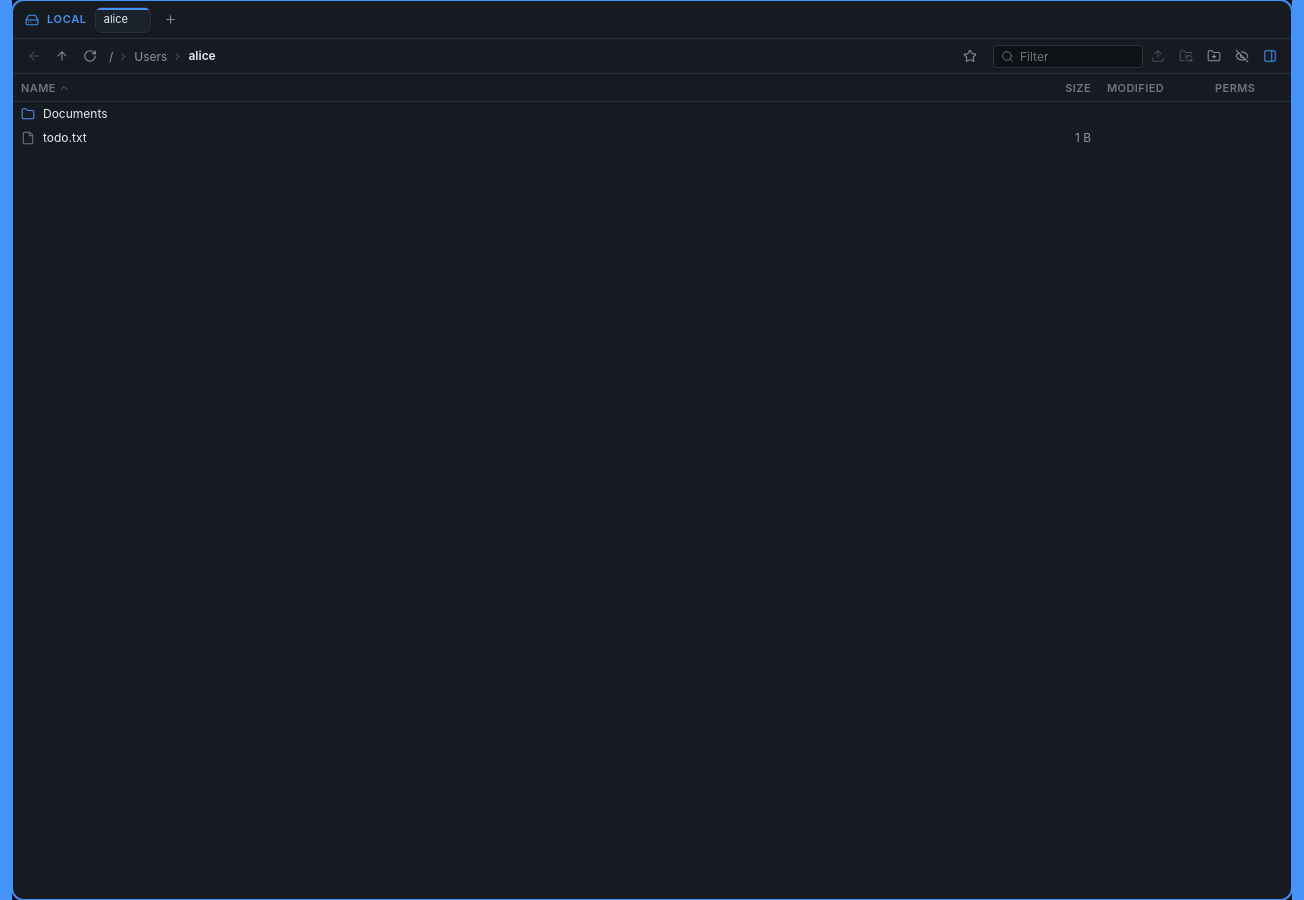
Test: Pane on macOS › renames with Enter instead of opening
This screenshot has width=1304, height=900.
Expected: the text "todo.txt" is shown, [43,129,87,147]
Click the text "Documents" at (75, 114), box [43,105,108,123]
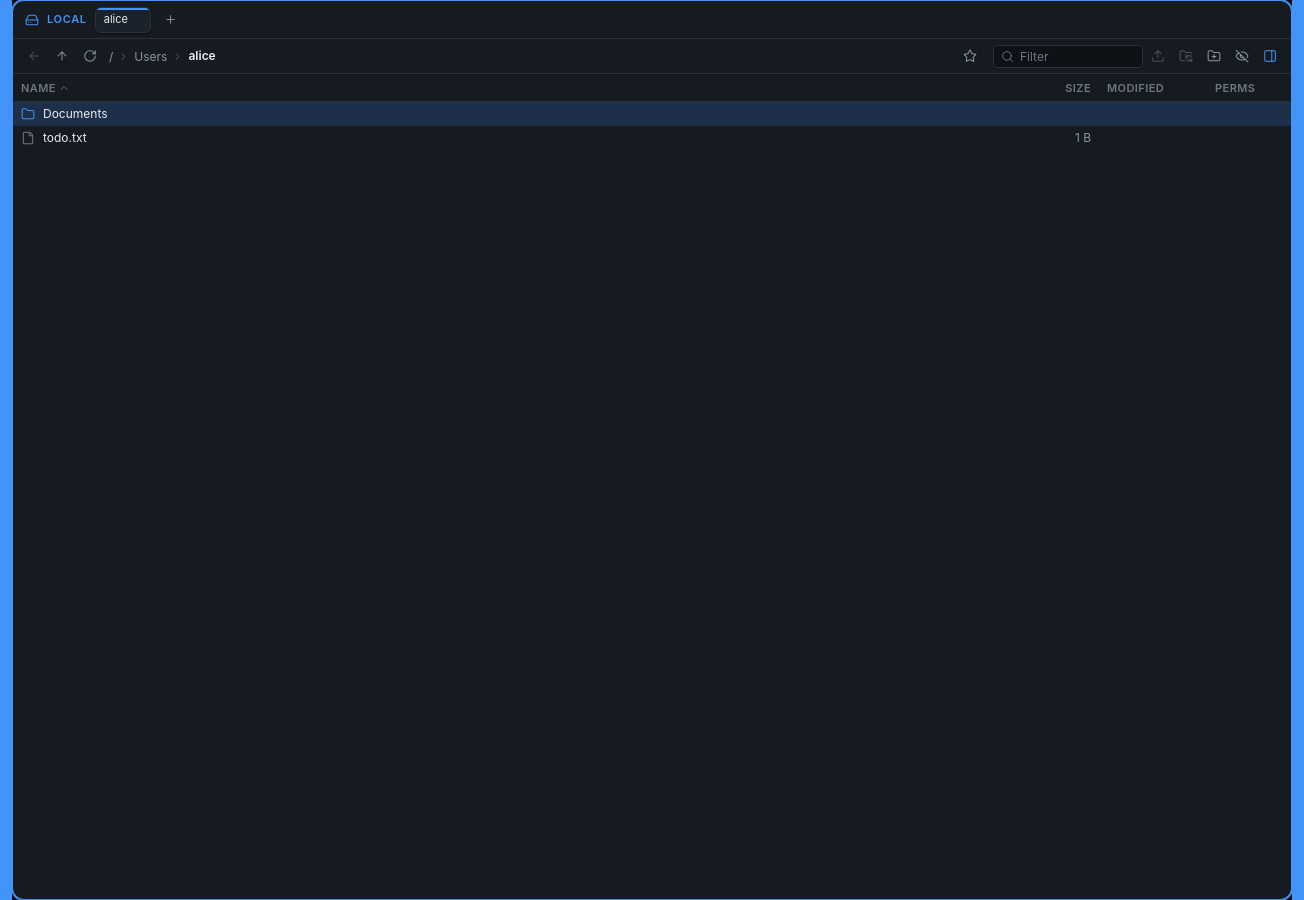
Press Enter in the table, box [13,74,1291,145]
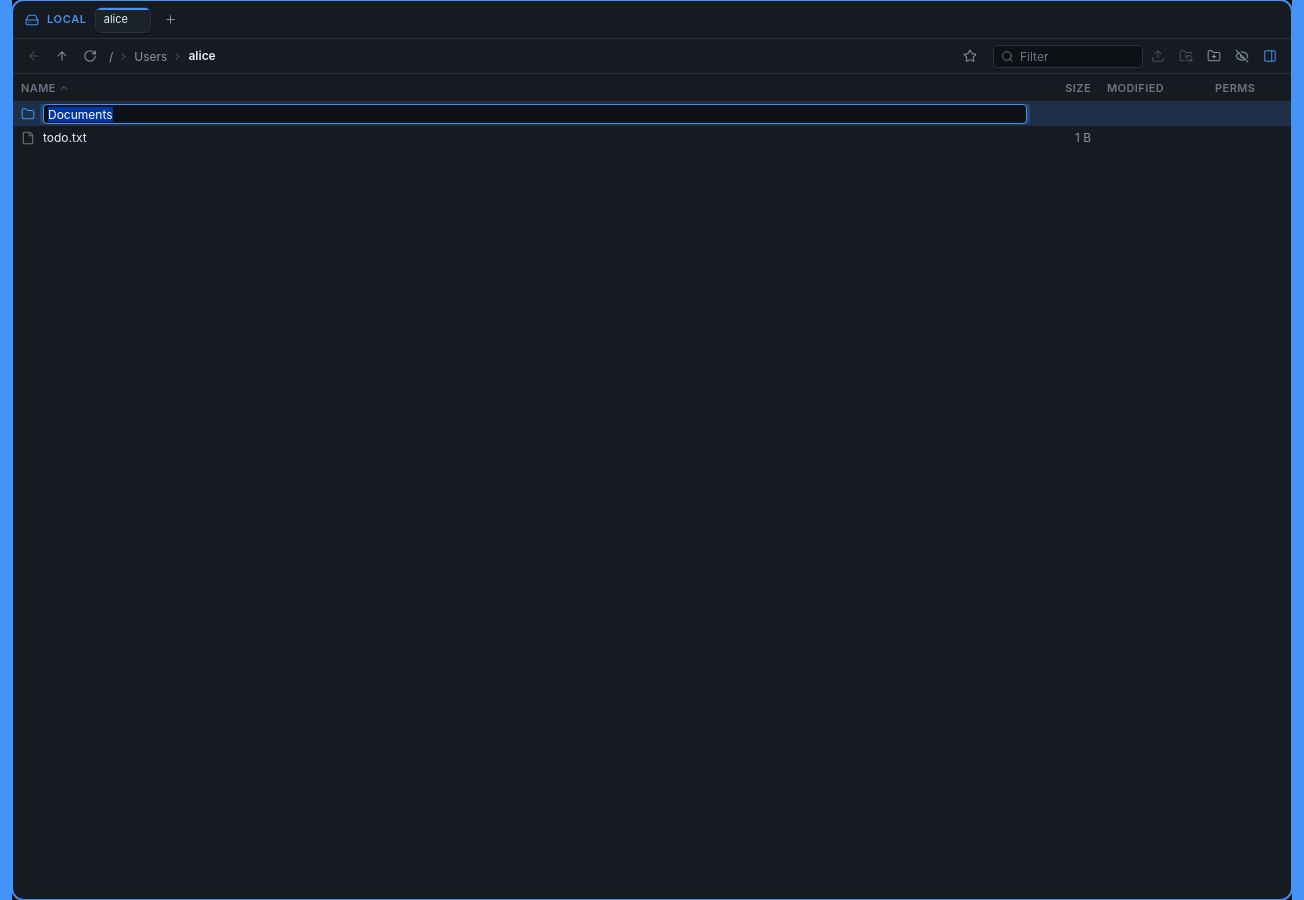
Expected: the field named "Rename Documents" is shown, [43,104,1027,124]
